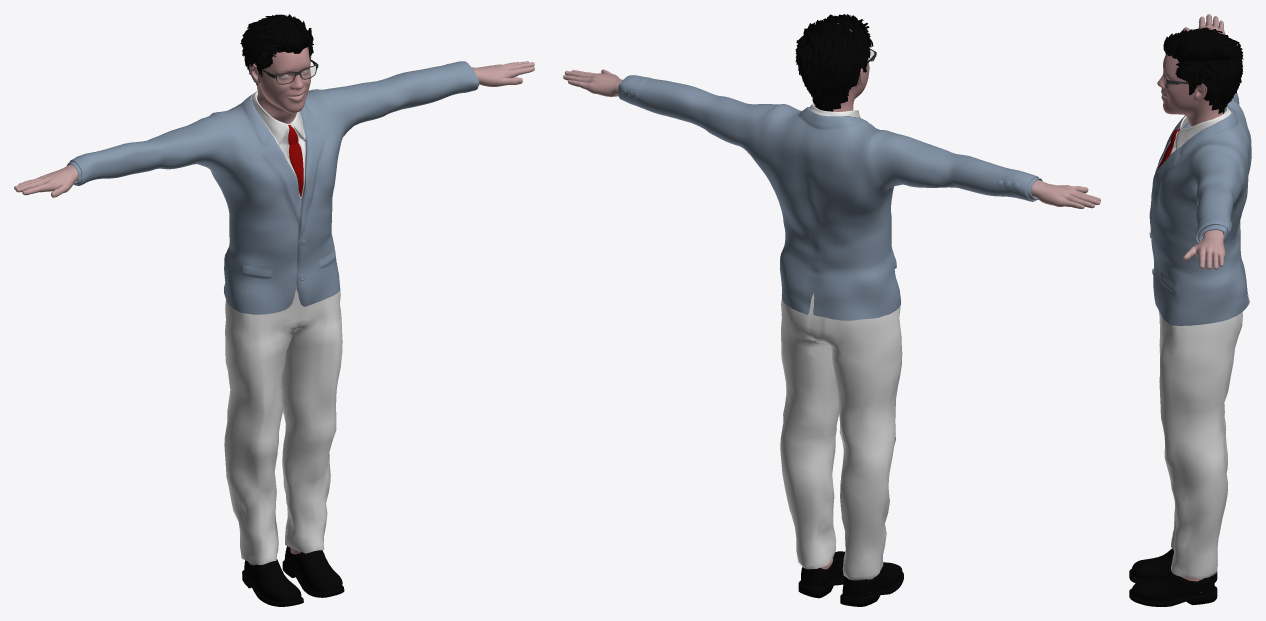
The model's file is teacher_model.fbx.
3 views of the same model, side by side, from view 1: azimuth 30°, elevation 25°; view 2: azimuth 150°, elevation 25°; view 3: azimuth 270°, elevation 25° (orthographic). The views are drawn at different scales.
Visible parts, largest first — view 1: suit1, pant, facex, hair1, shoe1, shoe2, hand1, hand2; view 2: suit1, pant, hair1, shoe2, hand1, shoe1, hand2; view 3: suit1, pant, hair1, shoe1, facex, hand2, shoe2, hand1.
Boxes of the visible parts, x1,y1,x2,y2 form: suit1: (67, 61, 479, 314); pant: (224, 286, 342, 564); facex: (249, 47, 311, 123); hair1: (240, 14, 313, 91); shoe1: (282, 546, 344, 597); shoe2: (242, 559, 303, 606); hand1: (14, 164, 78, 197); hand2: (472, 61, 534, 86); suit1: (618, 75, 1042, 320); pant: (780, 293, 902, 580); hair1: (795, 14, 873, 111); shoe2: (840, 562, 903, 606); hand1: (1031, 180, 1100, 208); shoe1: (798, 551, 844, 598); hand2: (563, 69, 622, 96); suit1: (1149, 93, 1251, 325); pant: (1159, 311, 1242, 578); hair1: (1163, 27, 1243, 113); shoe1: (1129, 572, 1217, 606); facex: (1157, 54, 1222, 126); hand2: (1183, 230, 1225, 269); shoe2: (1129, 549, 1217, 583); hand1: (1183, 14, 1225, 34).
Size of the model in its own units: 254 by 261 by 52.03.
